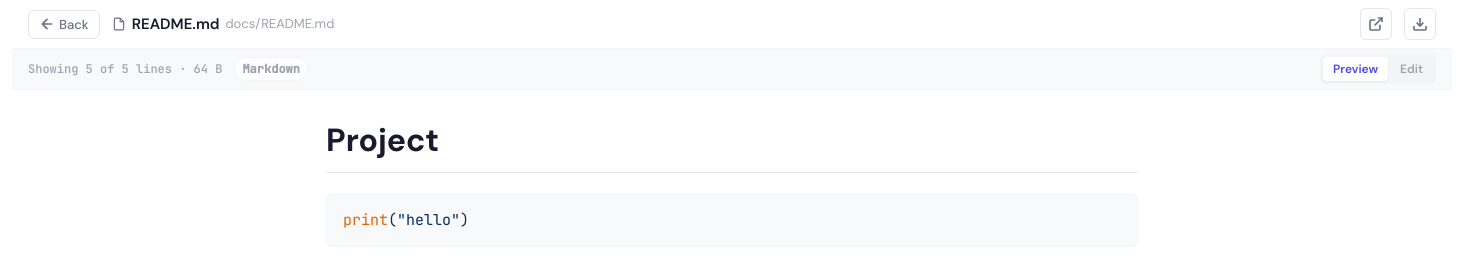
it: FileViewer › shows the Markdown source in Edit without conflating it with Preview
Expected: the element with class "markdown-preview" is shown, x1=326 y1=120 x2=1138 y2=247
Click the tab "Edit". click: (1412, 69)
box: x1=1390 y1=57 x2=1433 y2=81
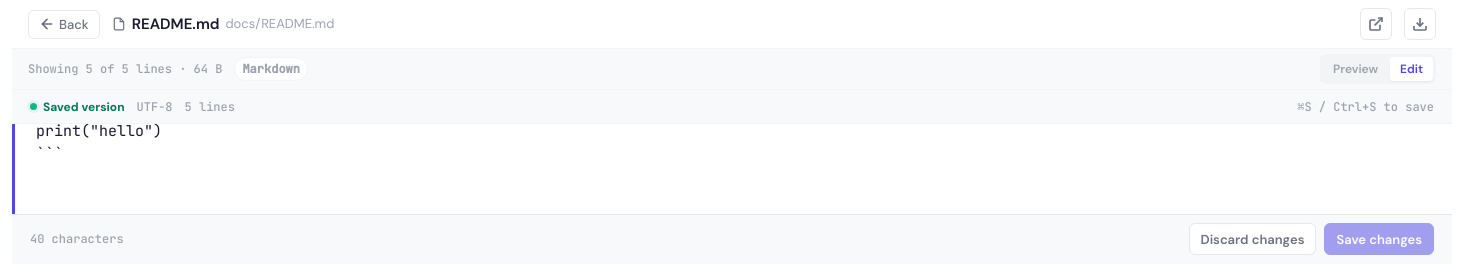
Click the tab "Preview". click: (1356, 69)
box: x1=1323 y1=57 x2=1388 y2=81
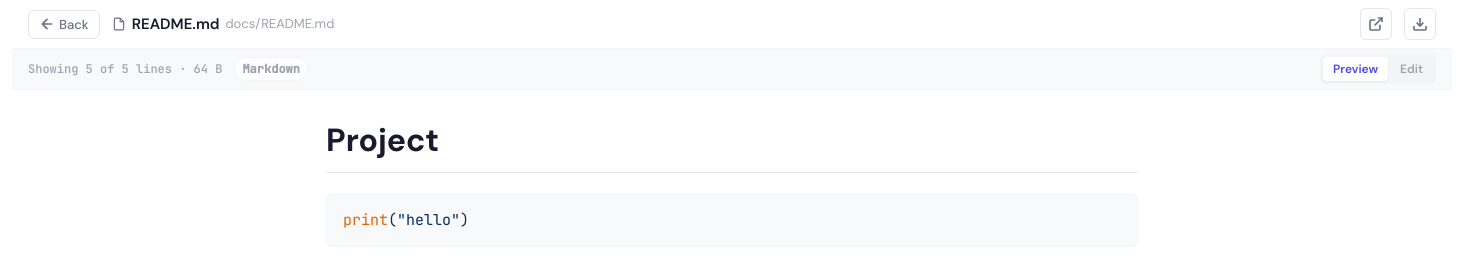
Now the element with class "markdown-preview" is shown, box x1=326 y1=120 x2=1138 y2=247
